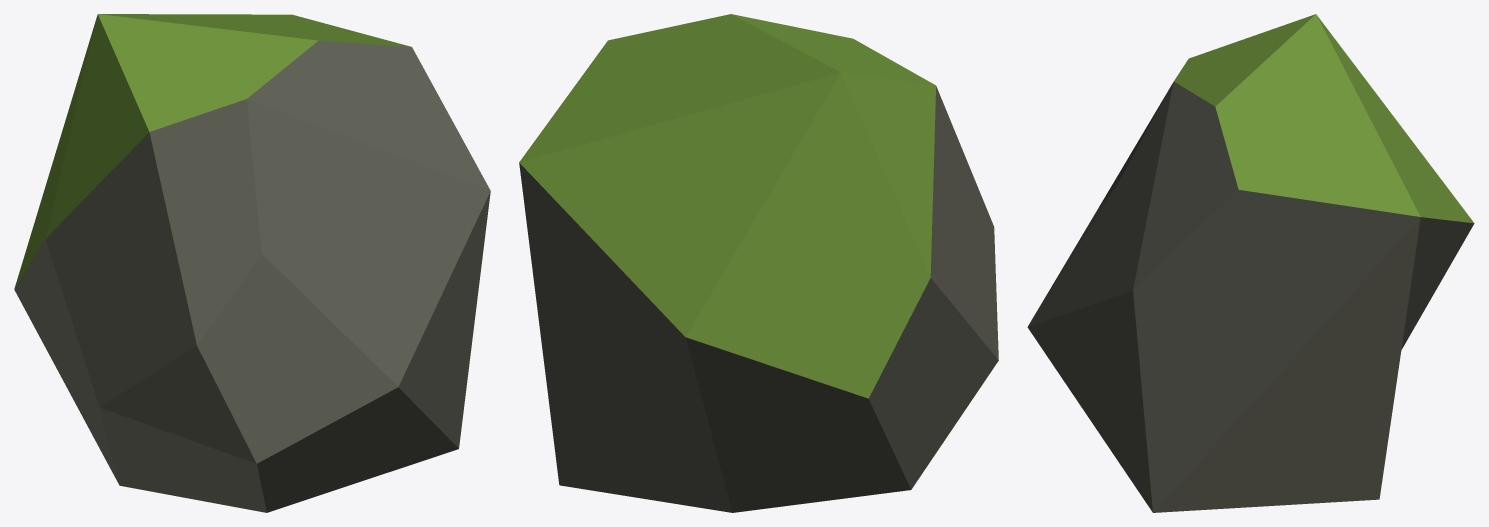
The model's file is green_rock_S.fbx.
3 renders of one model, left to right at view 1: azimuth 30°, elevation 25°; view 2: azimuth 150°, elevation 25°; view 3: azimuth 270°, elevation 25°, orthographic. The views are drawn at different scales.
Visible parts, largest first — view 1: Cube.024; view 2: Cube.024; view 3: Cube.024.
Part boxes in pixels (x1,y1,x2,y2): Cube.024: [14, 14, 490, 512]; Cube.024: [519, 14, 998, 512]; Cube.024: [1027, 14, 1474, 512].
Size of the model in its own units: 219 by 252 by 263.
